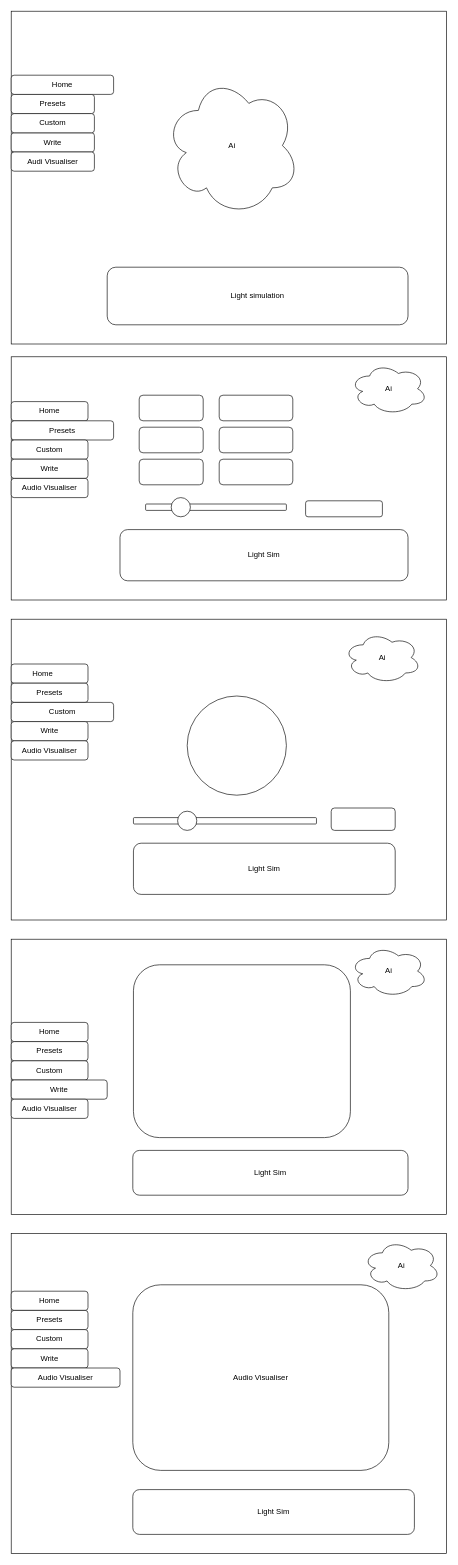
Image size: 458x1565. Some labels were removed from this diagram. Here are the shapes that lost their labels. From the top down, the box of each, then its label:
(187, 695, 286, 795): Color Wheel
(133, 964, 350, 1138): Either scripting program, or block based
